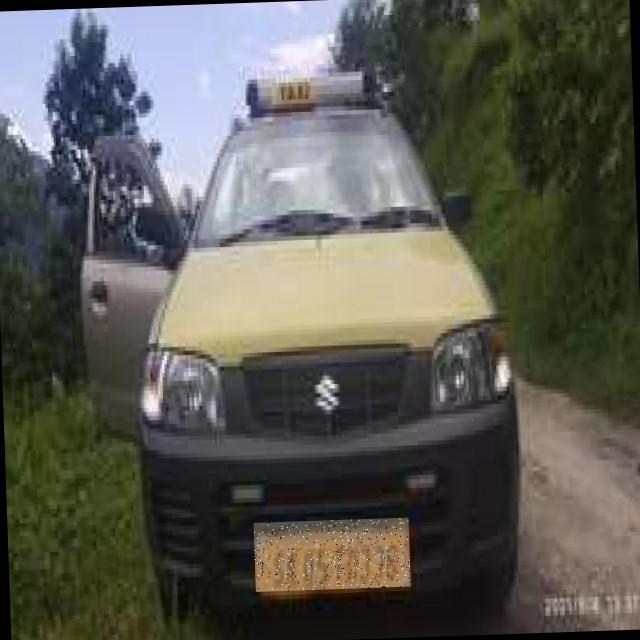Plate: (254, 518, 411, 592)
